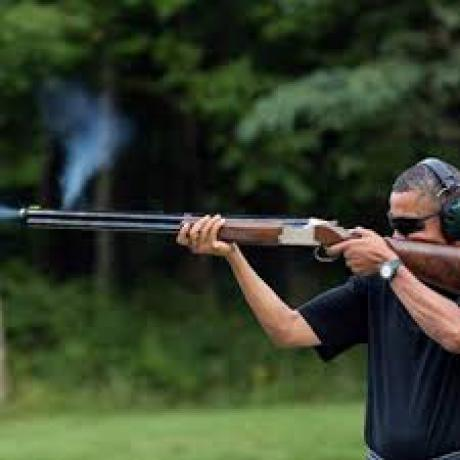Guns: (12, 196, 458, 298)
